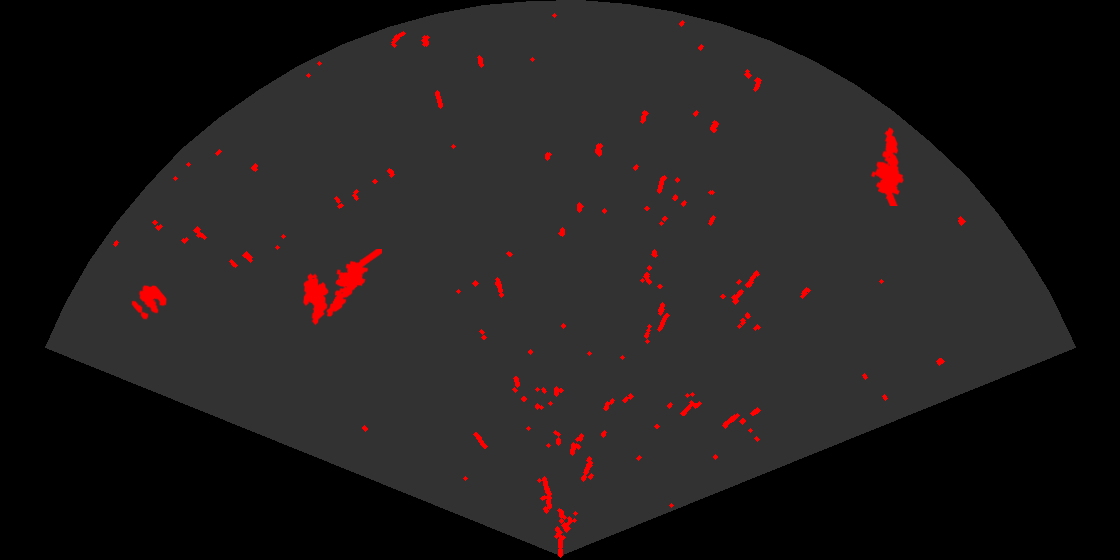AUV: (301, 271, 330, 327)
ball: (130, 283, 169, 321)
frogman: (325, 249, 382, 319), (869, 126, 905, 206)
